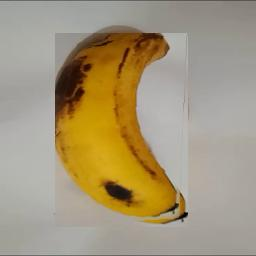Banana Semifresh: (56, 33, 189, 227)
